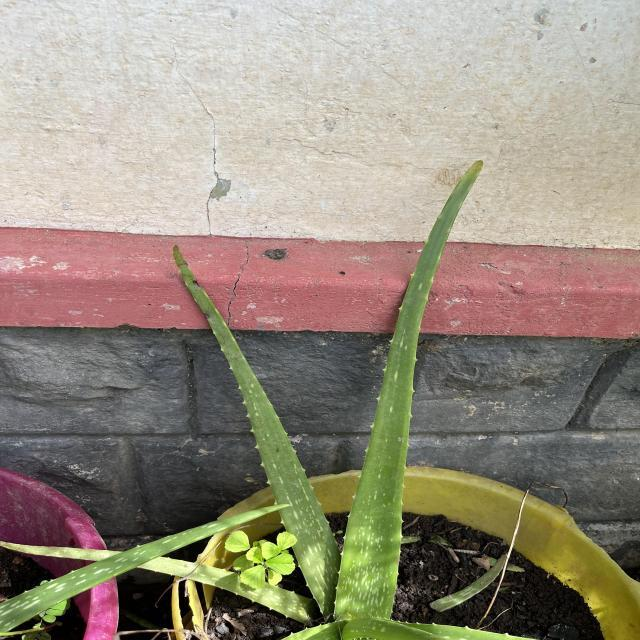Aloe vera: (330, 158, 492, 628)
